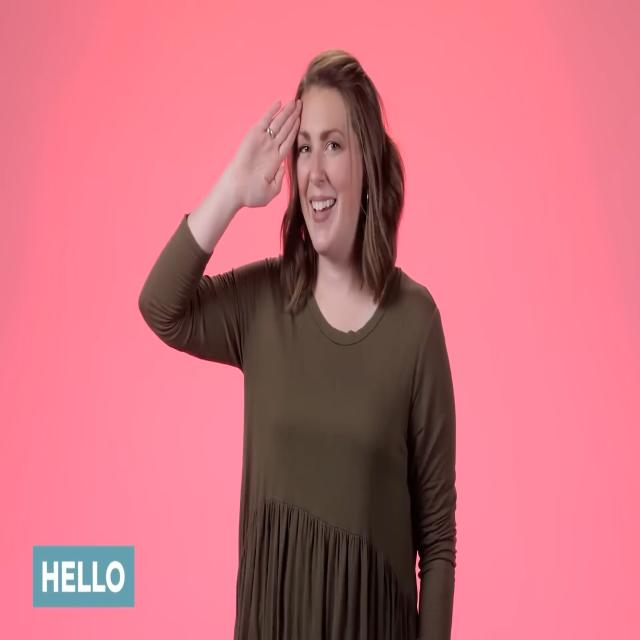hello: (196, 77, 316, 232)
